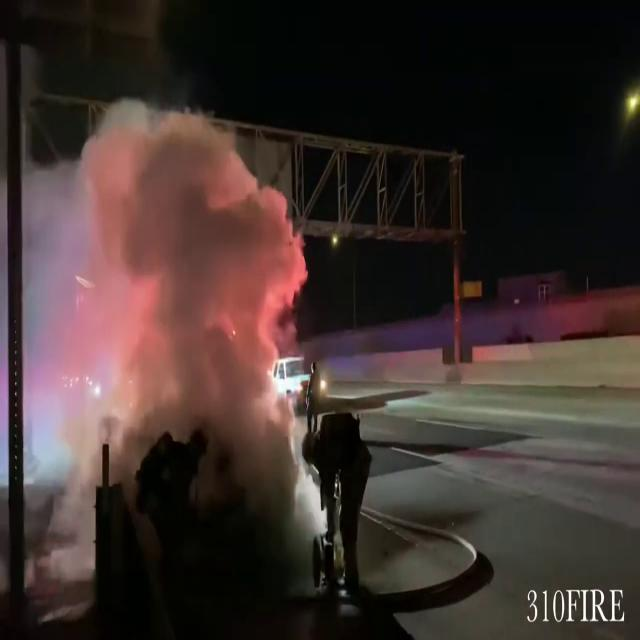Smoke: (24, 70, 326, 503)
